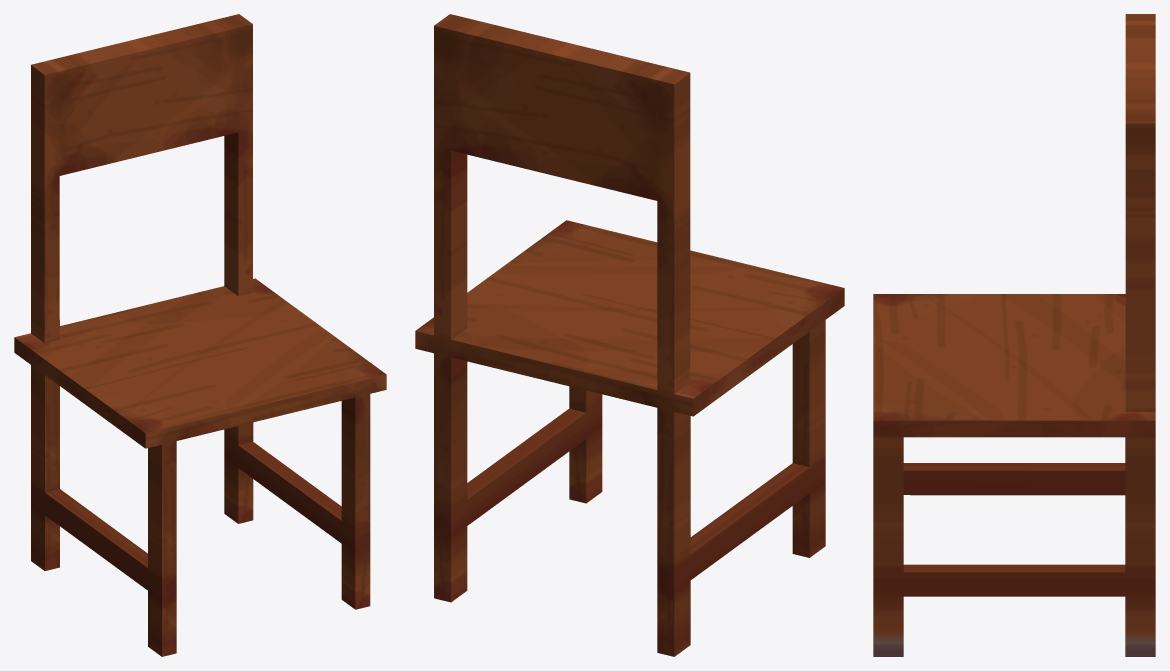
The model's file is chair.FBX.
The picture shows the model from 3 angles, left to right: view 1: azimuth 30°, elevation 25°; view 2: azimuth 150°, elevation 25°; view 3: azimuth 270°, elevation 25°; orthographic projection. The views are drawn at different scales.
Parts seen in each view (by area): view 1: chair; view 2: chair; view 3: chair.
Part boxes in pixels (box(x1,y1,x2,y2)): chair: box(14, 14, 386, 656); chair: box(415, 14, 844, 656); chair: box(873, 14, 1155, 656).
Bounding box in the file's own units: 0.6733 × 1.32 × 0.6344.
